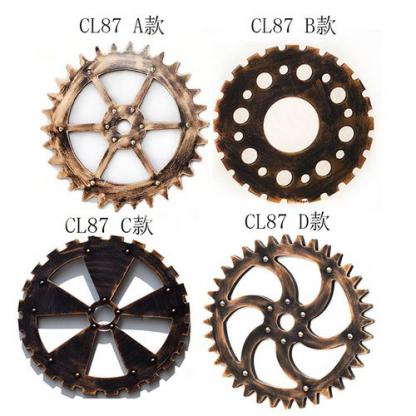FOD: (202, 231, 379, 410), (13, 235, 196, 401), (36, 44, 210, 210), (214, 40, 376, 203)
